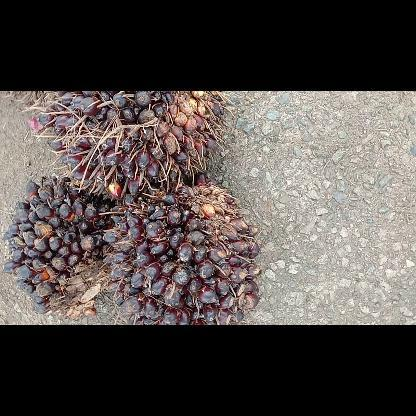TBS mentah: (98, 178, 258, 324), (38, 91, 224, 195), (4, 178, 112, 316)
